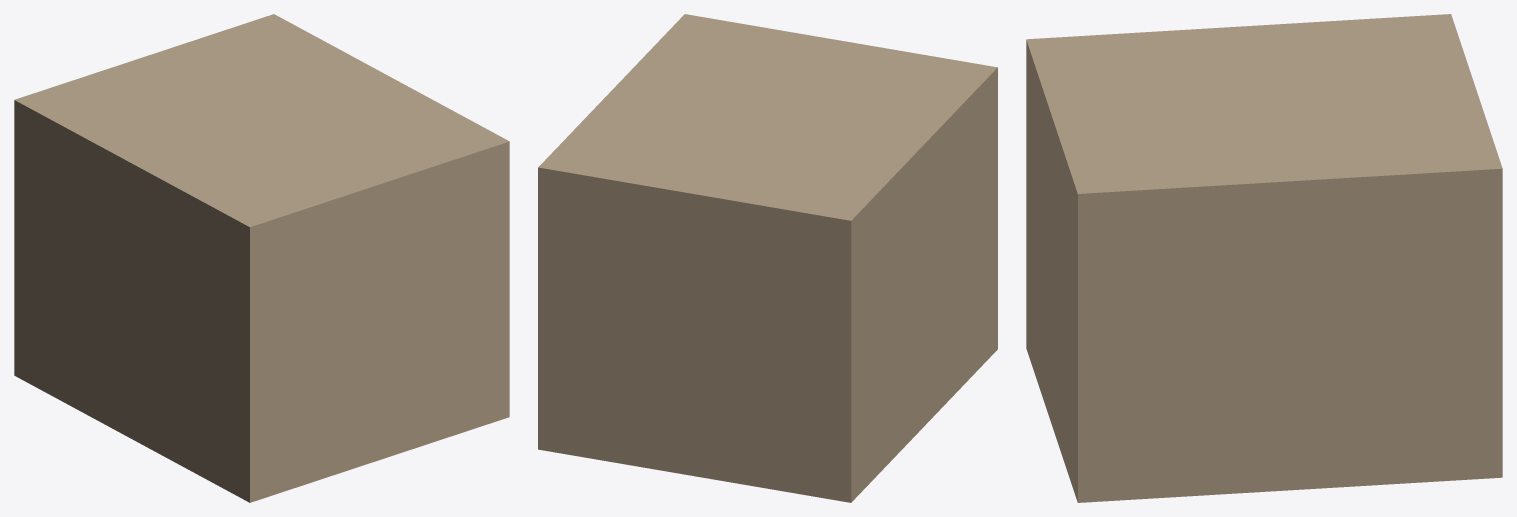
File: bld_107639059.dae
3 renders of one model, left to right at view 1: azimuth 30°, elevation 25°; view 2: azimuth 150°, elevation 25°; view 3: azimuth 270°, elevation 25°, orthographic. The views are drawn at different scales.
Parts seen in each view (by area): view 1: bld_107639059; view 2: bld_107639059; view 3: bld_107639059.
Boxes of the visible parts, <box> form: bld_107639059: <box>14,14,509,502</box>; bld_107639059: <box>538,14,997,502</box>; bld_107639059: <box>1026,14,1502,502</box>.
Size of the model in its own units: 9.99 by 11.18 by 8.
